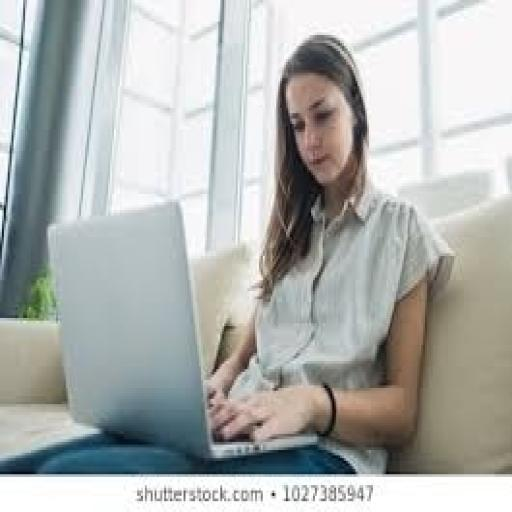using_laptop: (44, 196, 319, 464)
